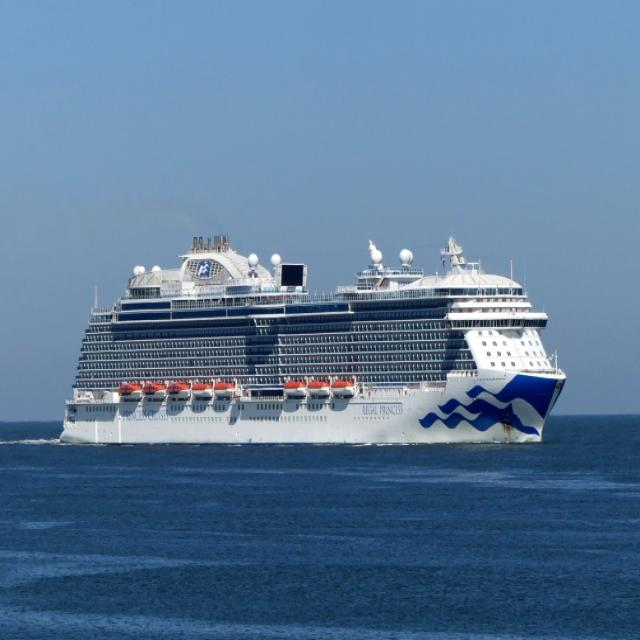cruises: (54, 209, 576, 466)
